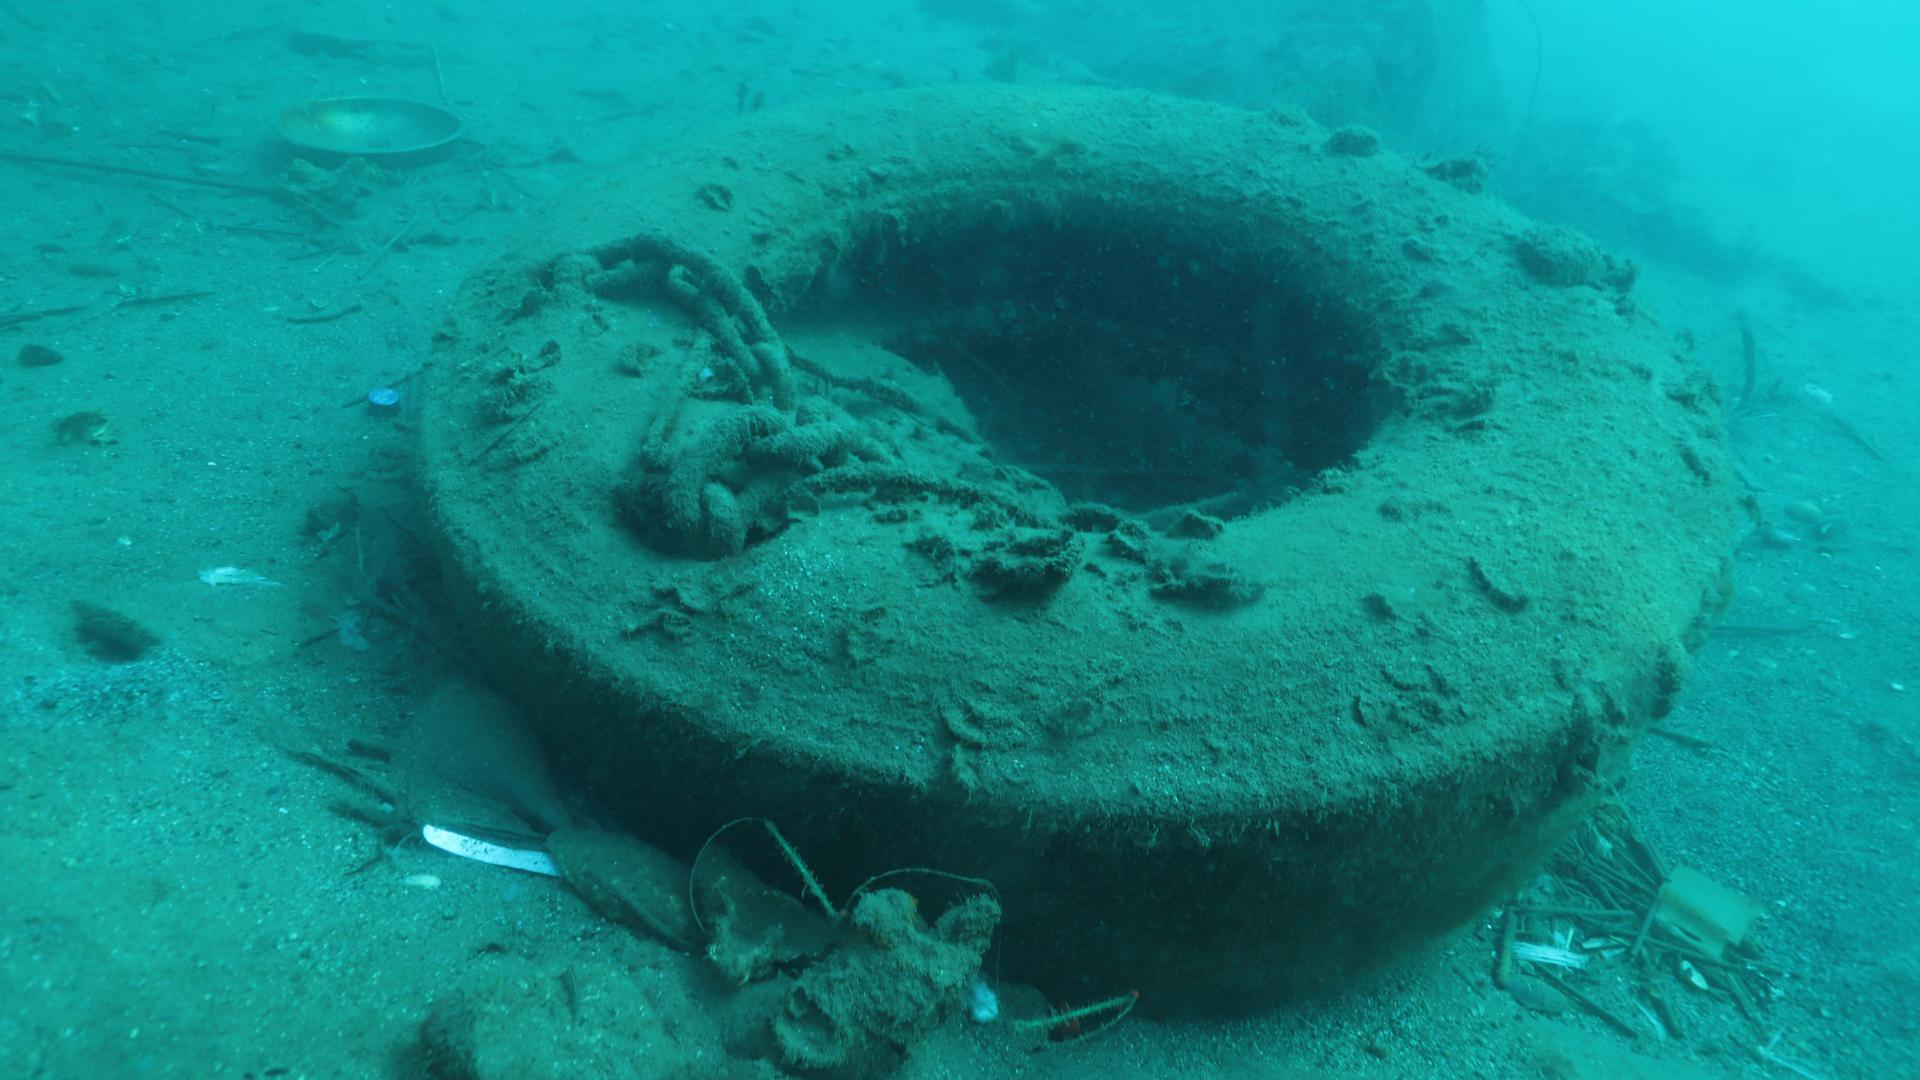tire: (419, 76, 1731, 1000)
